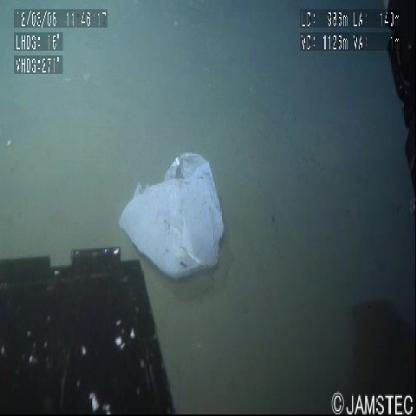Rov: (1, 246, 182, 413), (382, 2, 416, 194)
Rác: (110, 132, 245, 296)
